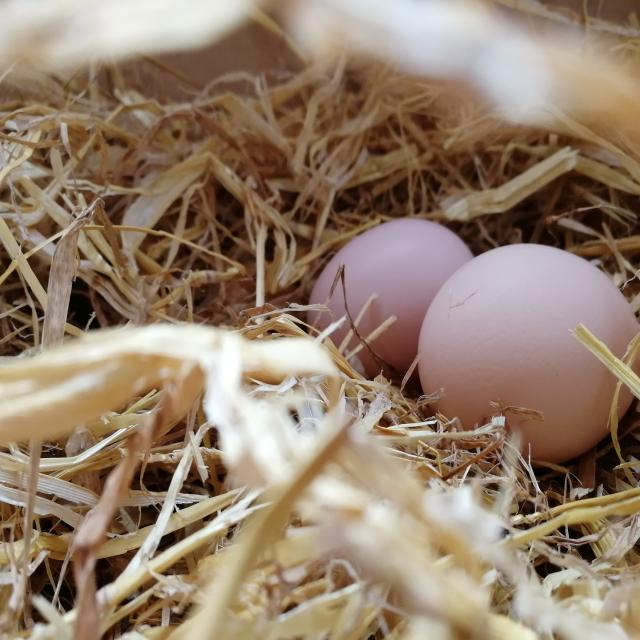egg: (364, 214, 640, 486), (301, 195, 507, 407)
